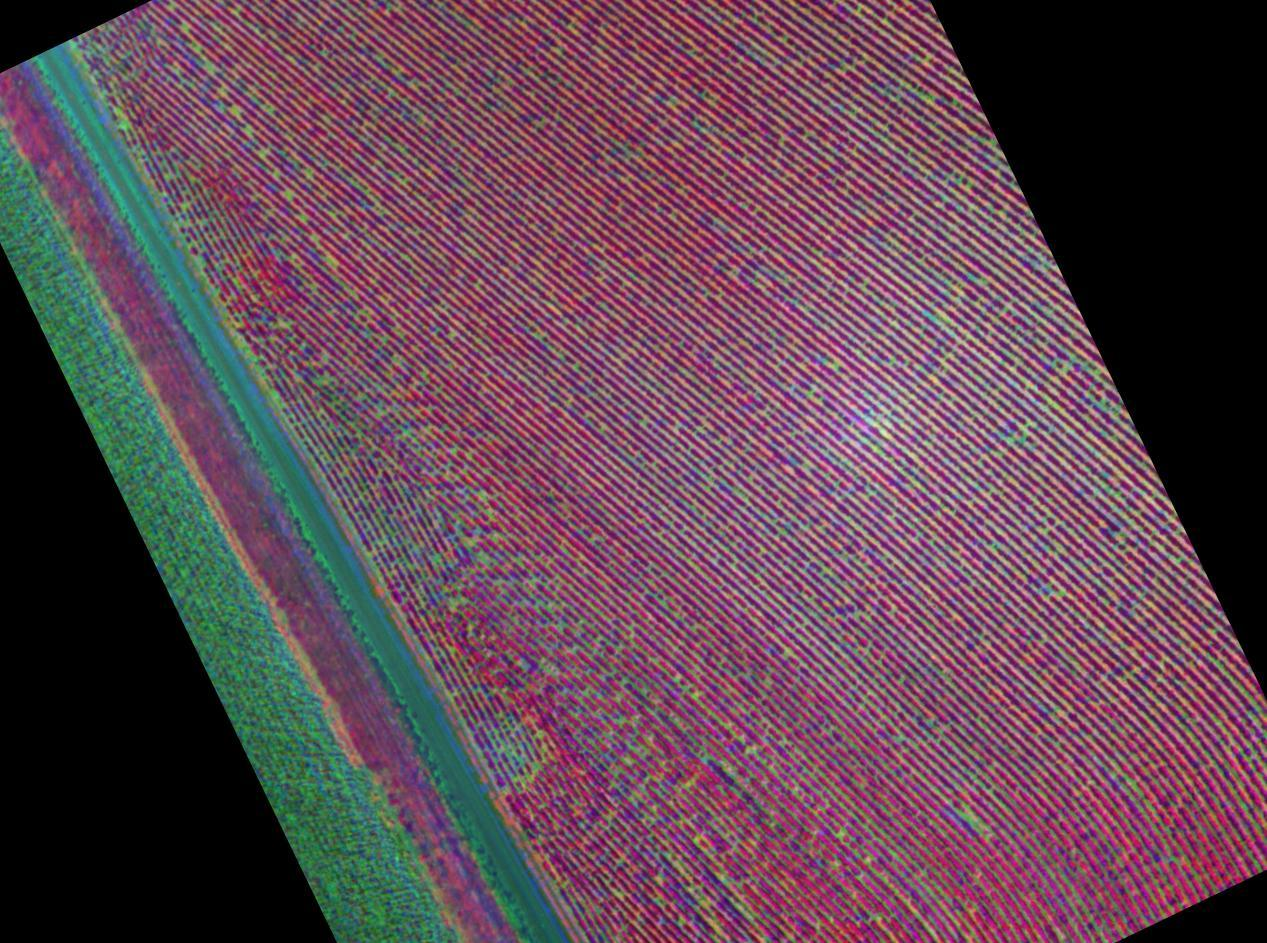dc: (481, 555, 485, 560), (434, 556, 439, 560), (232, 108, 236, 112), (468, 540, 472, 544), (450, 599, 454, 603), (977, 281, 980, 285), (184, 26, 187, 29), (832, 366, 835, 369), (584, 692, 587, 695)
